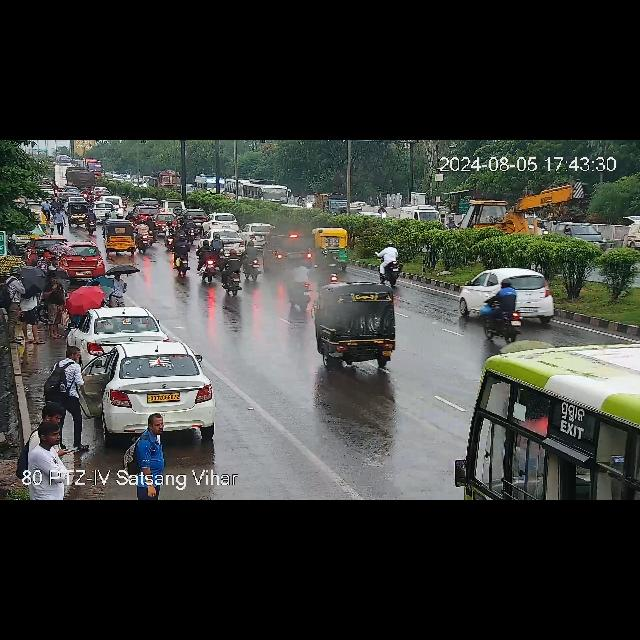bus: (452, 336, 640, 499), (195, 176, 293, 202), (74, 157, 104, 176)
car: (90, 342, 218, 438), (316, 279, 408, 367), (458, 268, 560, 320), (76, 306, 166, 358), (43, 243, 105, 277), (312, 228, 356, 266), (264, 236, 310, 270), (104, 218, 134, 252), (396, 206, 444, 224), (206, 213, 240, 229), (242, 224, 270, 240), (180, 209, 210, 223), (628, 216, 640, 250), (132, 205, 160, 219), (94, 200, 115, 218), (226, 230, 244, 250), (137, 197, 161, 207)
motorcycle: (482, 280, 522, 336), (29, 188, 72, 230), (372, 243, 408, 285), (218, 251, 252, 295), (196, 234, 224, 278), (42, 195, 70, 232), (287, 262, 309, 308), (68, 198, 92, 228), (243, 240, 260, 282), (136, 218, 156, 250), (178, 220, 206, 242), (174, 238, 188, 276), (154, 212, 178, 232), (164, 220, 180, 248), (86, 212, 100, 232), (104, 208, 118, 222)
truck: (456, 172, 588, 242), (54, 345, 85, 451), (130, 410, 164, 500), (2, 262, 20, 348), (20, 292, 42, 342), (42, 403, 64, 452), (44, 274, 60, 340), (143, 168, 181, 188), (65, 168, 97, 188), (314, 192, 346, 212), (110, 270, 126, 308), (27, 250, 47, 268), (51, 258, 59, 266)
